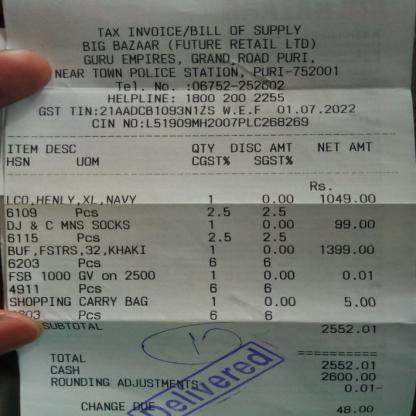receipts: (3, 3, 416, 414)
